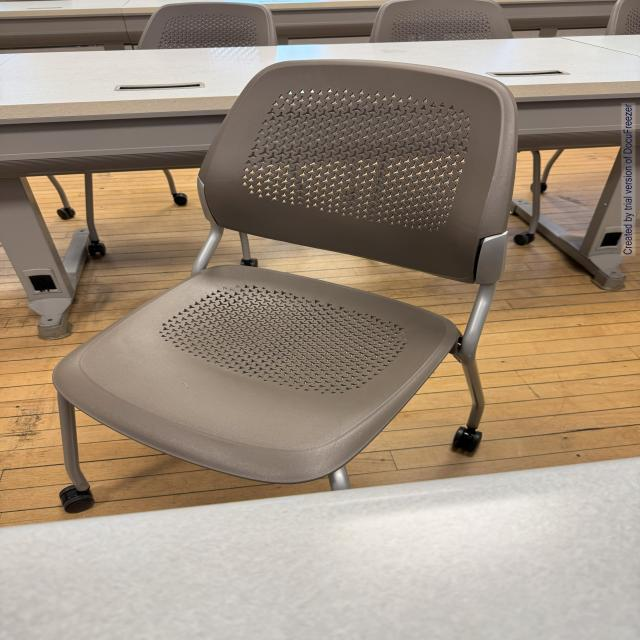chair: (31, 41, 528, 498)
